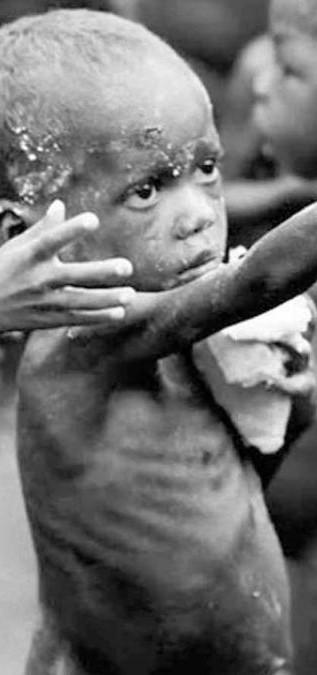Stunting: (0, 47, 268, 310)
